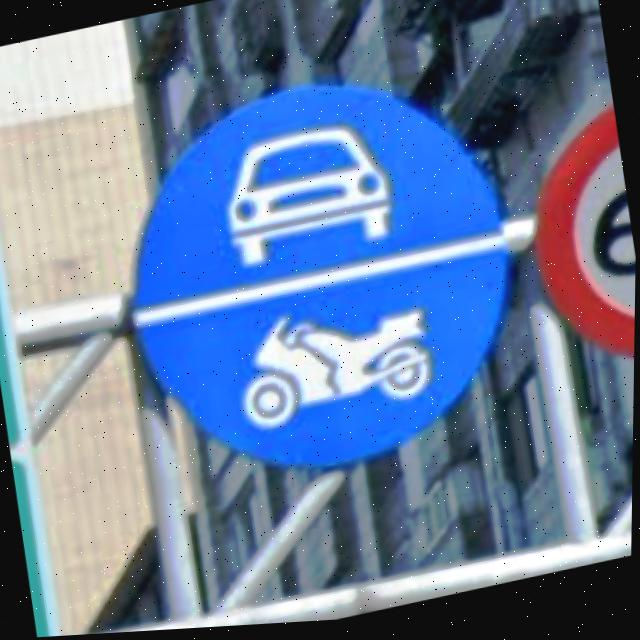carmotorcycle: (136, 89, 509, 469)
